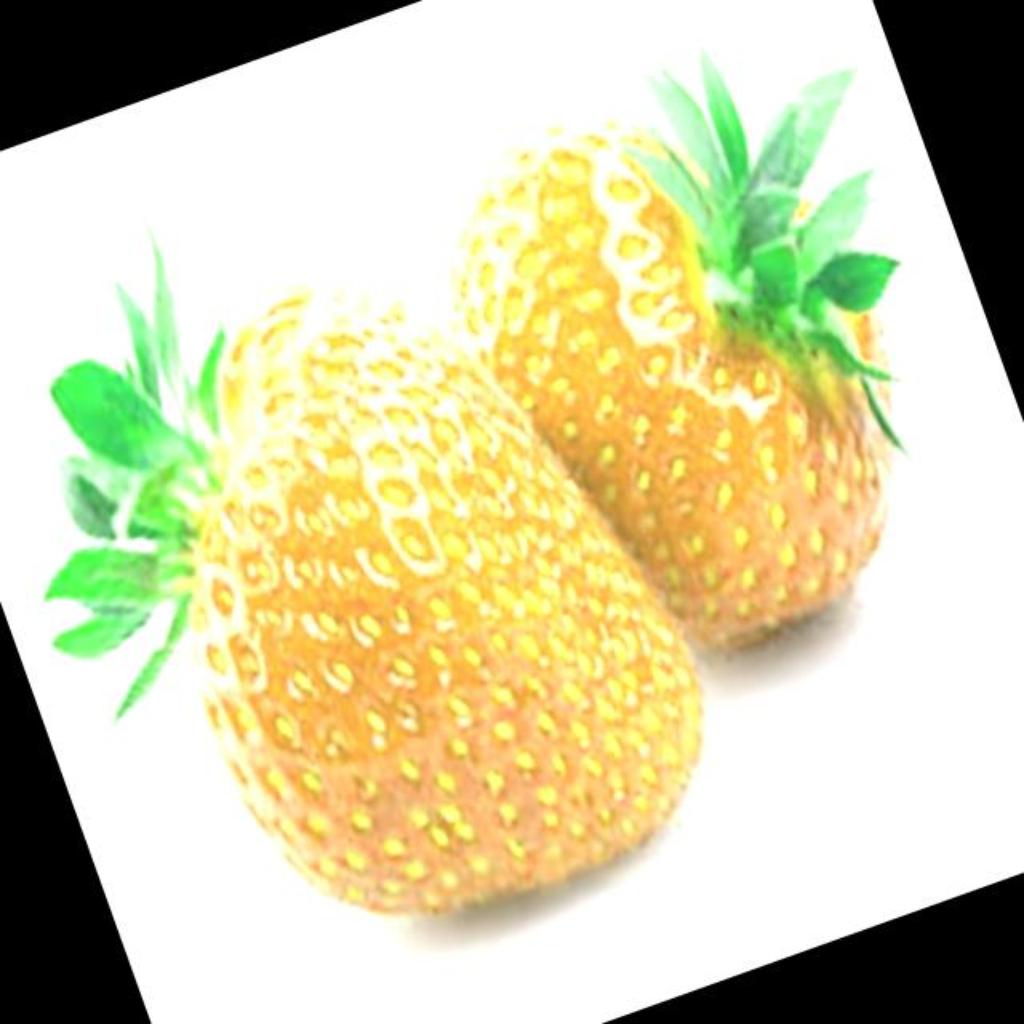strawberry: (46, 258, 700, 911), (464, 62, 896, 647)
